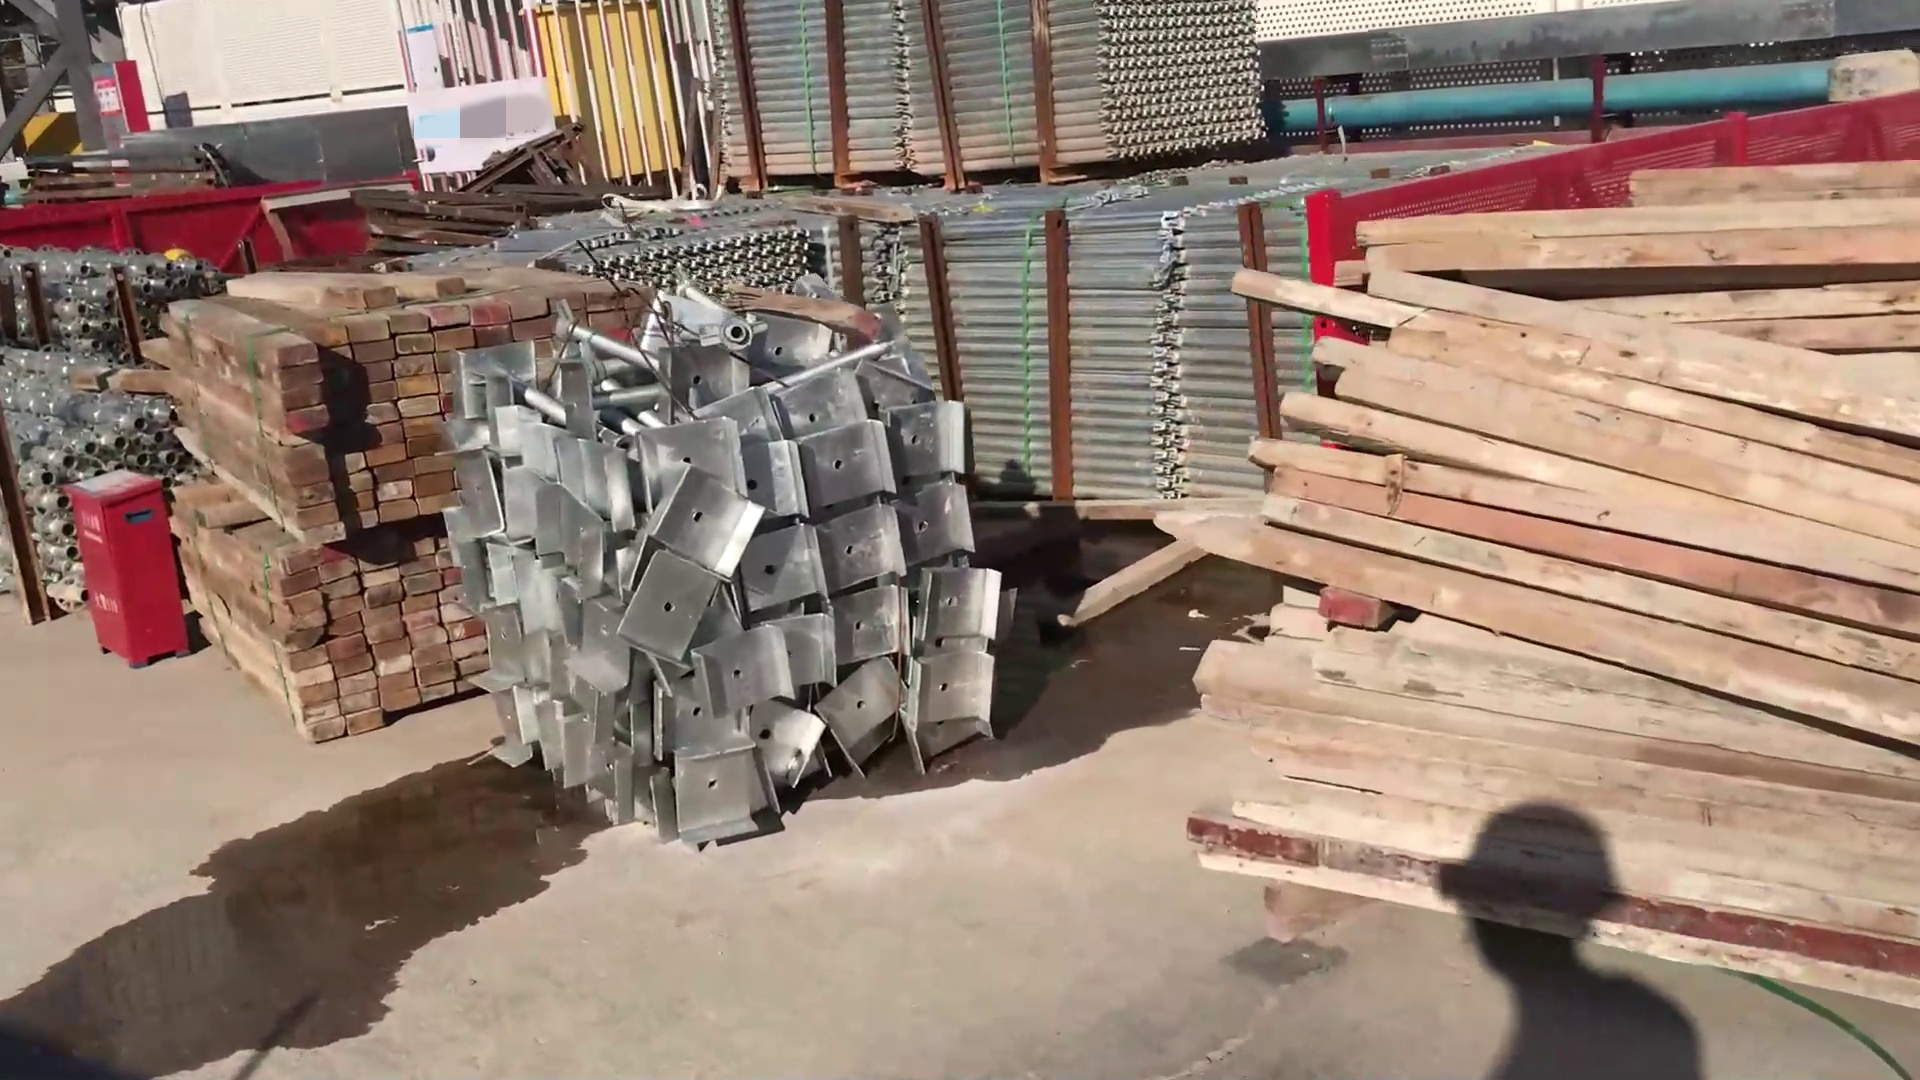fence: (158, 183, 363, 257)
scaffold: (877, 193, 1208, 524), (738, 11, 1296, 160), (8, 237, 174, 607), (593, 211, 825, 303)
wood: (1182, 195, 1920, 1007), (165, 287, 462, 731)
